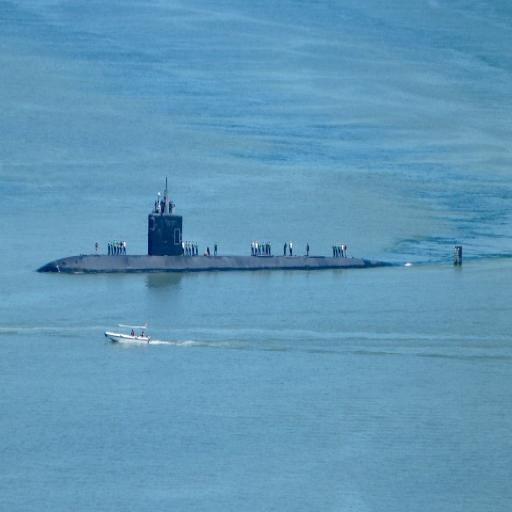submarine: (38, 213, 463, 274)
